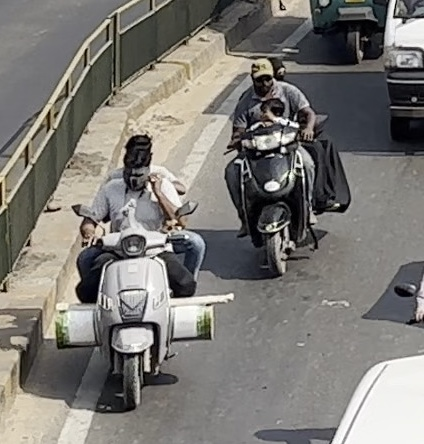BikeWithRider: (53, 126, 237, 414), (220, 52, 363, 282)
NoHelmet: (122, 129, 159, 165), (246, 59, 279, 97), (119, 150, 153, 185), (266, 58, 292, 86), (256, 97, 289, 119)
